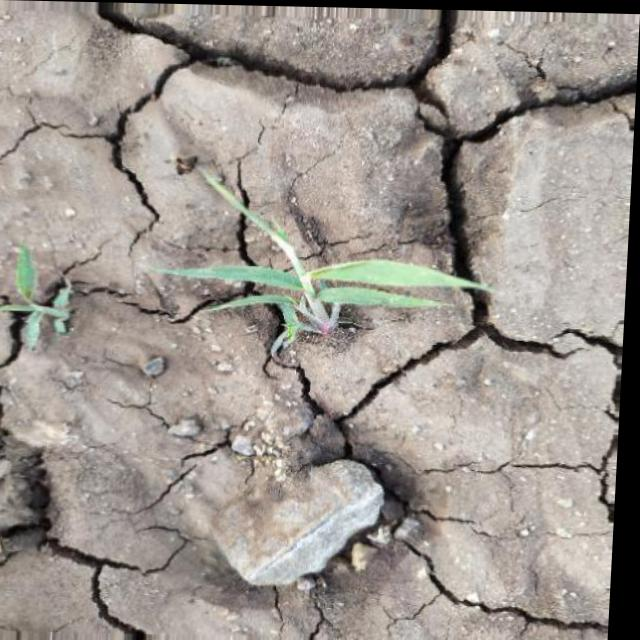weed: (145, 164, 505, 355)
